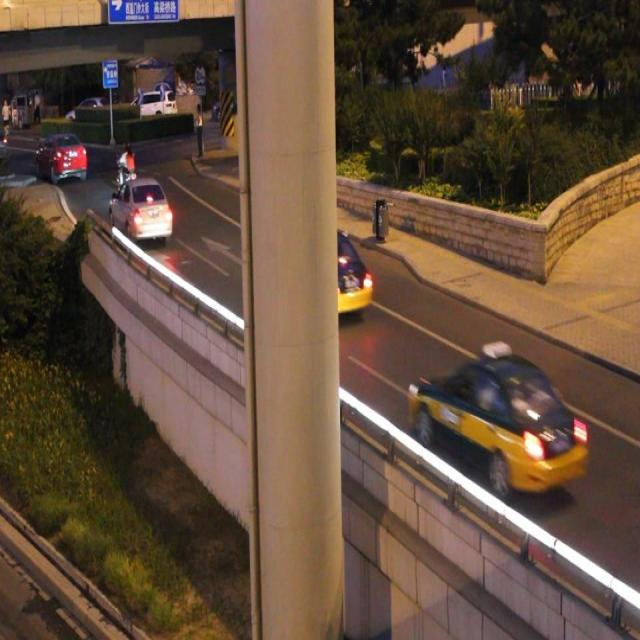car: (410, 351, 585, 489), (278, 234, 370, 316), (110, 180, 171, 241), (37, 134, 86, 179)
